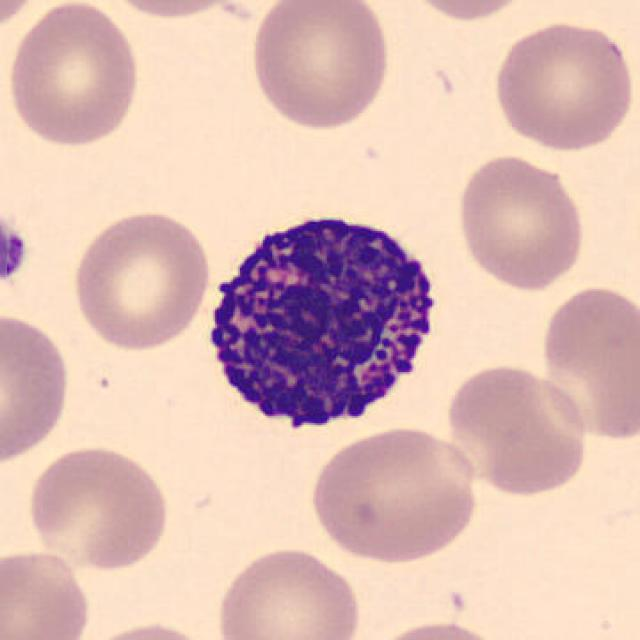Basophil: (190, 192, 457, 448)
Platelets: (0, 215, 32, 286)
RBC: (304, 421, 484, 566), (70, 205, 214, 352), (4, 0, 144, 150), (441, 360, 592, 499), (489, 16, 636, 153), (23, 441, 174, 573), (245, 0, 395, 132), (452, 150, 588, 293), (535, 279, 638, 446), (212, 543, 366, 640), (0, 307, 73, 472), (0, 545, 94, 640), (398, 0, 540, 25), (361, 617, 510, 640), (95, 0, 252, 21), (74, 619, 220, 640), (0, 0, 46, 41)
